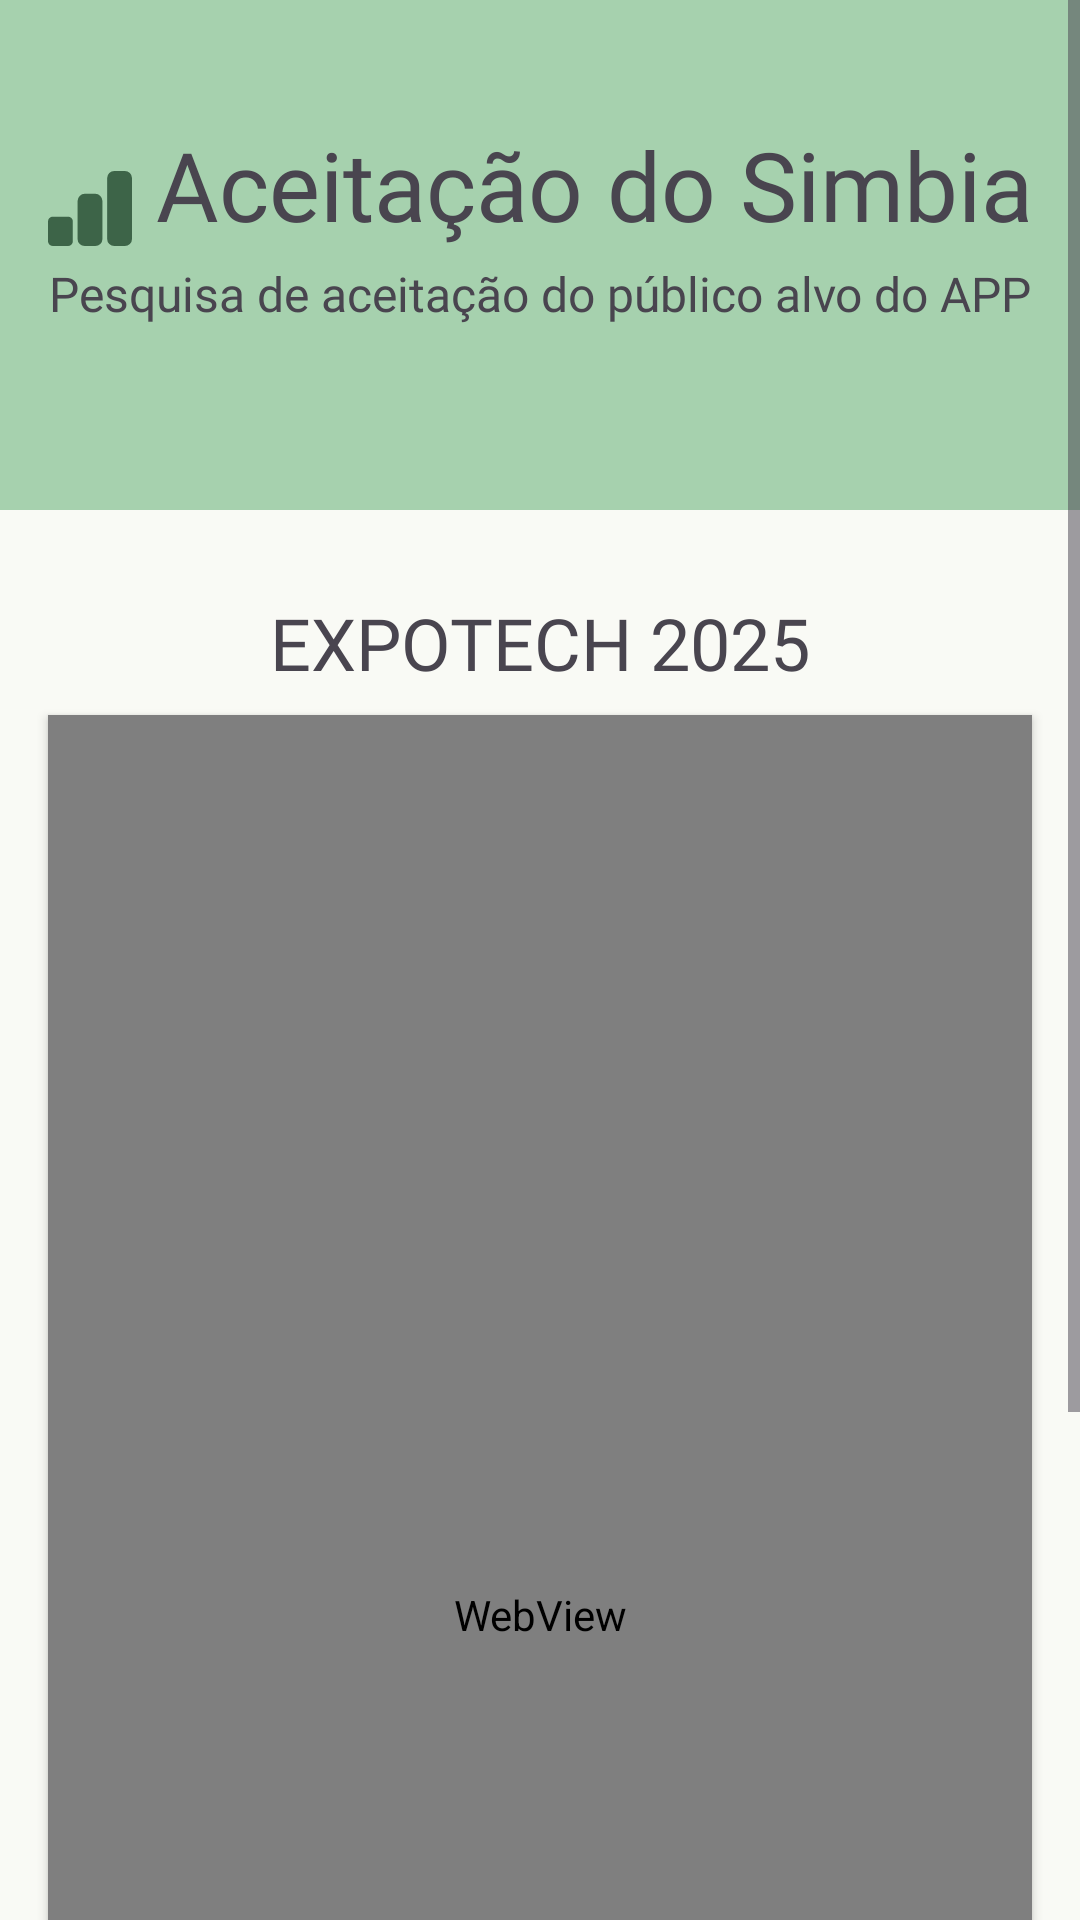

Where to tap for icons on this 1080×1920 app screen, as [x,y]:
painel impacto: [90,208]
